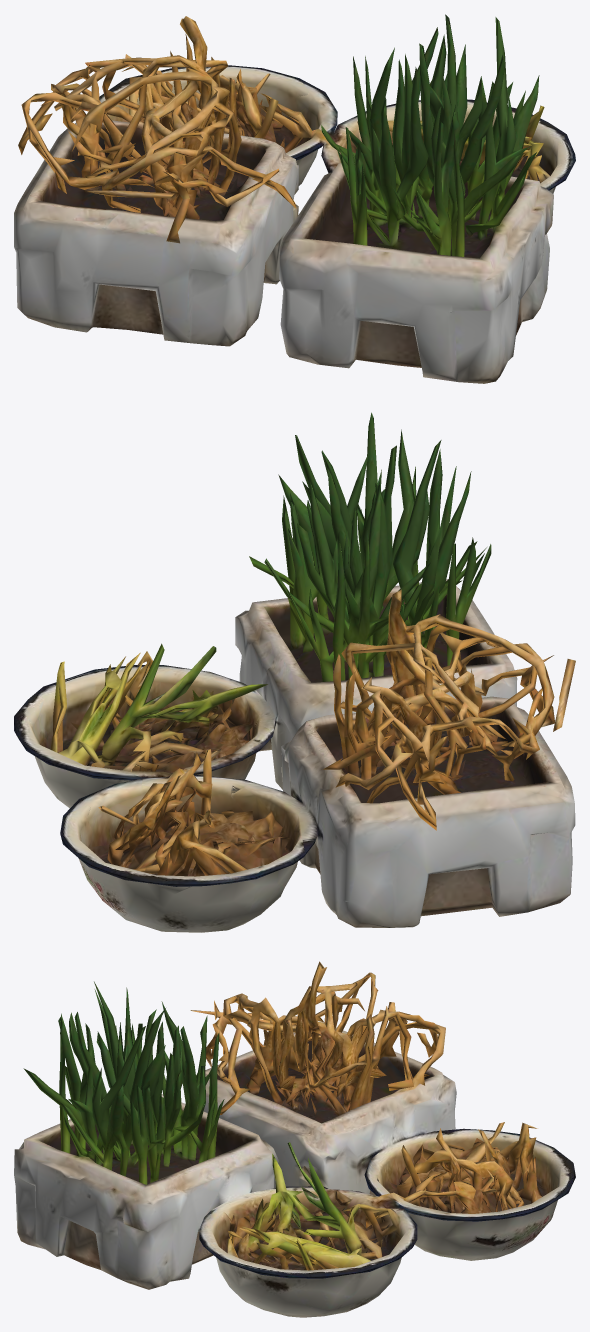
The model's file is planters.glb.
3 views of the same model, one above another, from view 1: azimuth 30°, elevation 25°; view 2: azimuth 150°, elevation 25°; view 3: azimuth 270°, elevation 25° (orthographic). The views are drawn at different scales.
Parts seen in each view (by area): view 1: tripo_node_283c0b8e-34fd-457b-ad26-8ff50befe79f; view 2: tripo_node_283c0b8e-34fd-457b-ad26-8ff50befe79f; view 3: tripo_node_283c0b8e-34fd-457b-ad26-8ff50befe79f.
Part boxes in pixels (left/top/right/bottom): tripo_node_283c0b8e-34fd-457b-ad26-8ff50befe79f: left=14, top=14, right=575, bottom=383; tripo_node_283c0b8e-34fd-457b-ad26-8ff50befe79f: left=14, top=412, right=575, bottom=932; tripo_node_283c0b8e-34fd-457b-ad26-8ff50befe79f: left=14, top=961, right=575, bottom=1317.
Size of the model in its own units: 0.9197 by 0.4899 by 1.
1 material, 1 textured.
